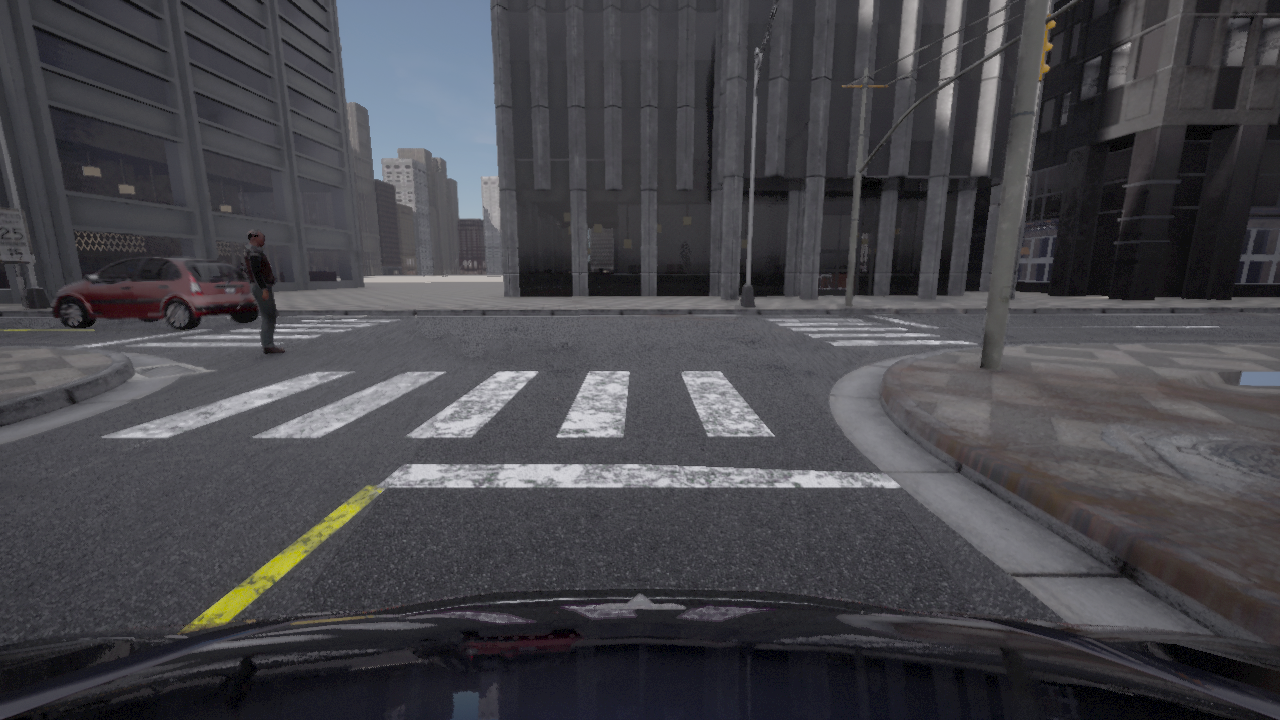cyclist: (0, 588, 1279, 719), (52, 256, 259, 329)
pedestrian: (244, 230, 285, 353), (240, 262, 245, 273)
